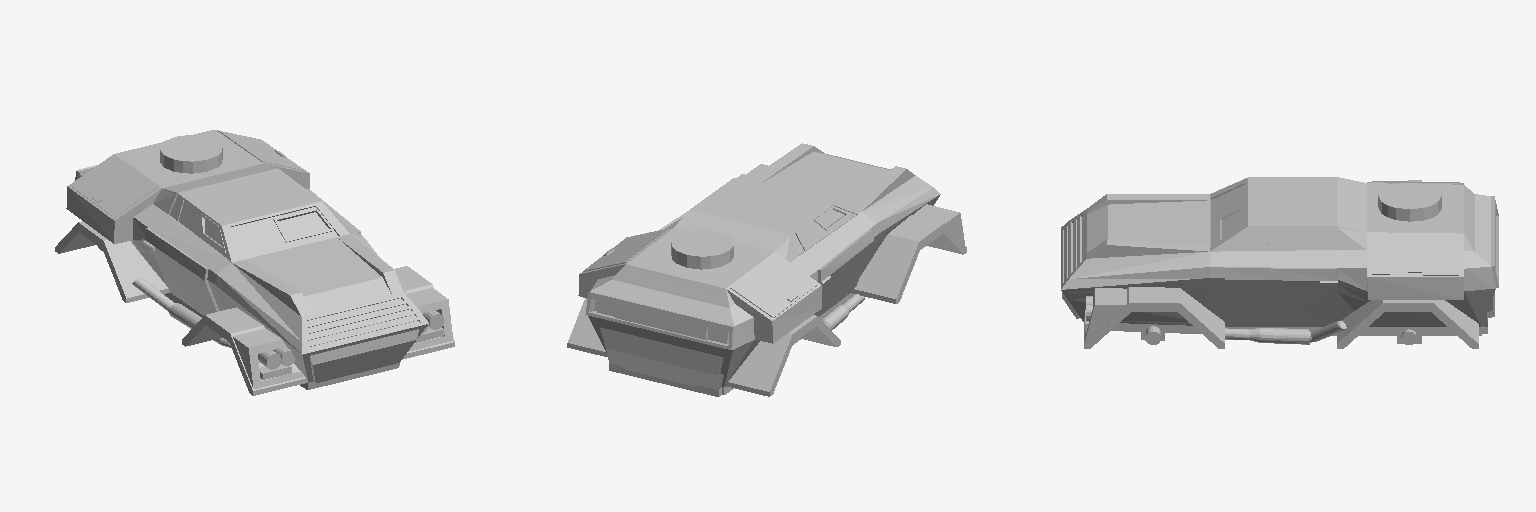
The model's file is Tank.OBJ.
3 renders of one model, left to right at view 1: azimuth 30°, elevation 25°; view 2: azimuth 150°, elevation 25°; view 3: azimuth 270°, elevation 25°, orthographic.
Parts seen in each view (by area): view 1: Group31372; view 2: Group31372; view 3: Group31372.
Boxes of the visible parts, box(x1,y1,x2,y2) form: Group31372: box(55, 130, 454, 395); Group31372: box(567, 143, 966, 396); Group31372: box(1061, 177, 1498, 348).
Bounding box in the file's own units: 3.91 × 2.22 × 7.35.